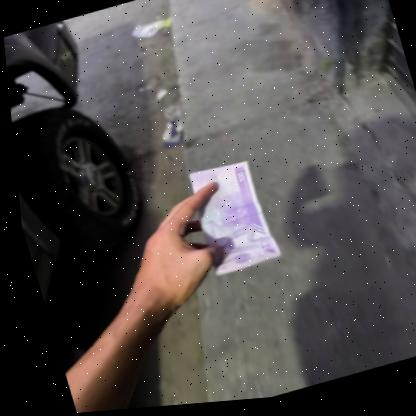one_hundred-back-vef: (180, 158, 279, 282)
